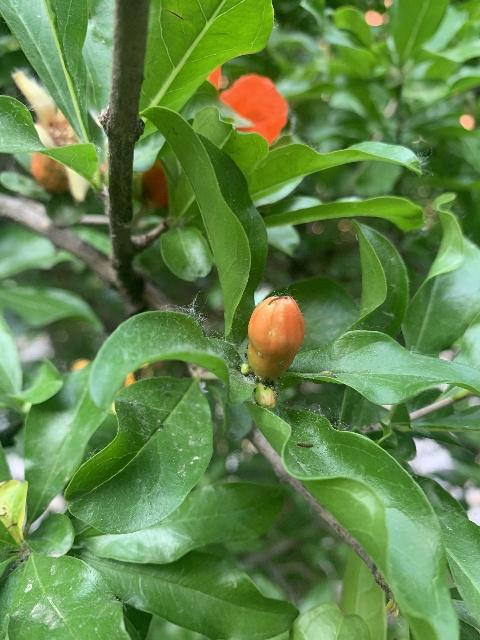bud: (246, 294, 304, 379), (255, 383, 276, 408)
early-fruit: (11, 70, 93, 202)
flower: (141, 65, 287, 206)
